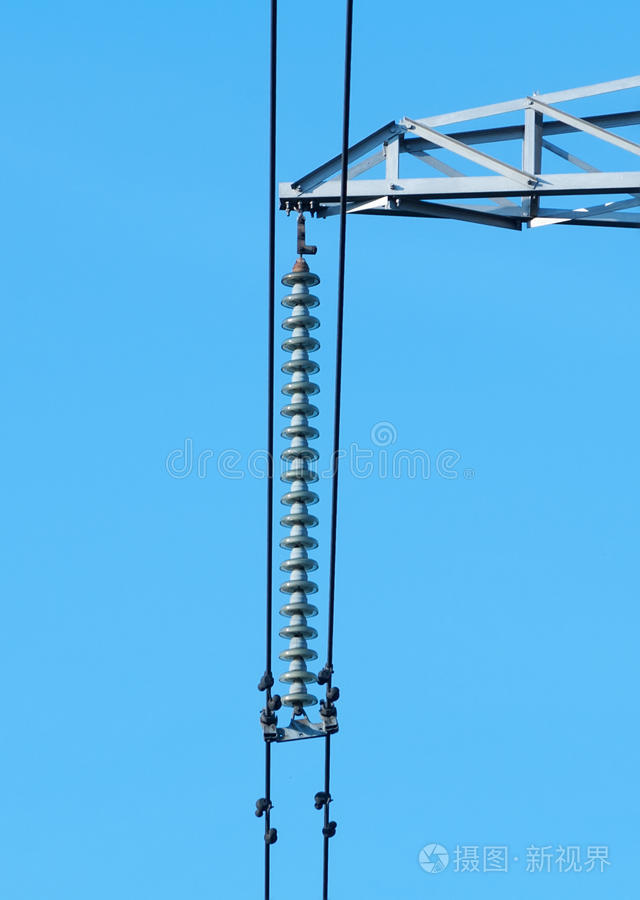insulator: (278, 268, 316, 712)
